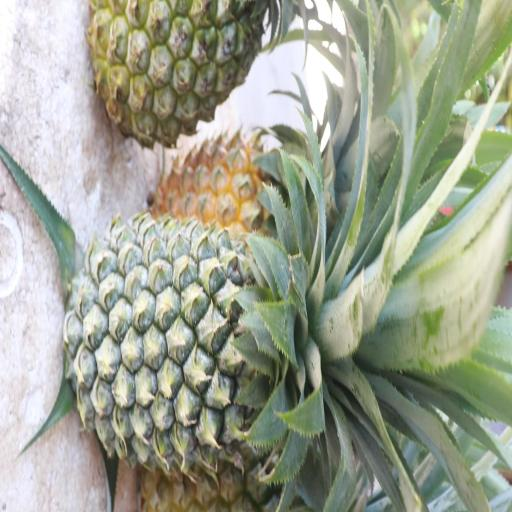------------------------------: (89, 0, 272, 139)
